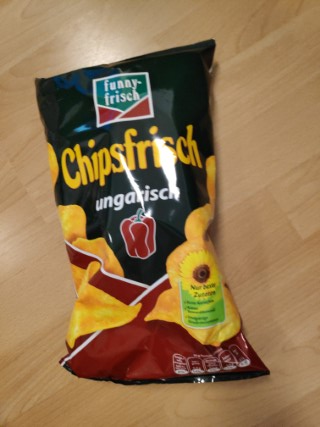chipsfrisch: (34, 38, 272, 383)
